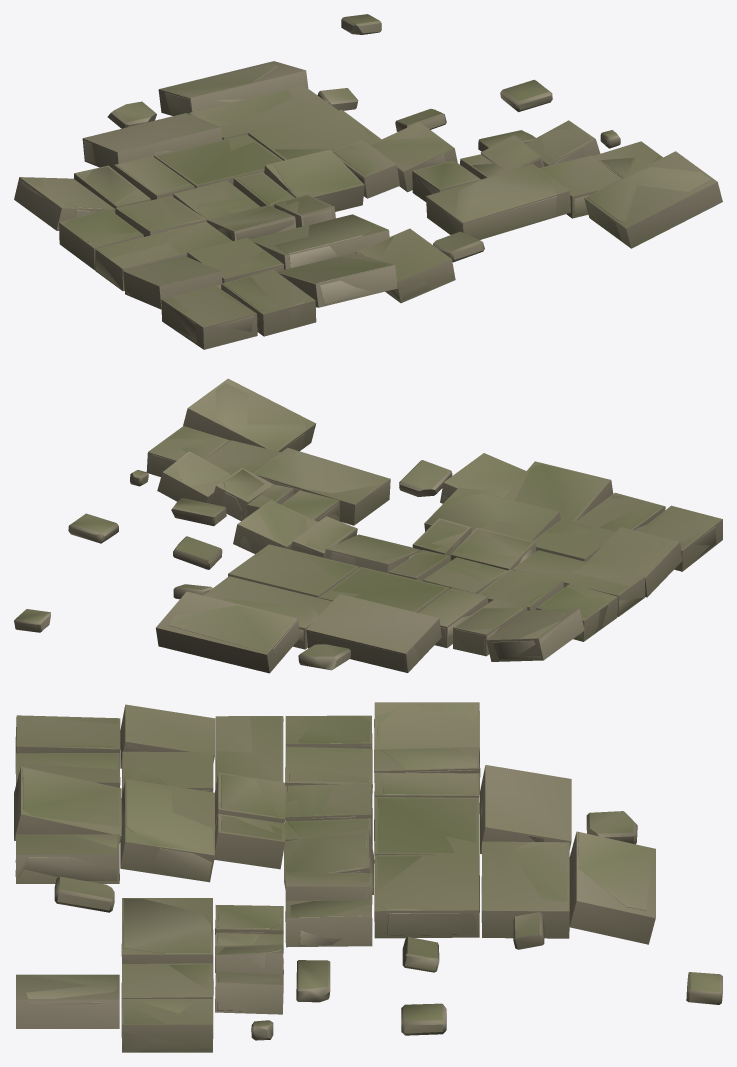
File: agora_paving_broken.glb
3 renders of one model, top to bottom at view 1: azimuth 30°, elevation 25°; view 2: azimuth 150°, elevation 25°; view 3: azimuth 270°, elevation 25°, orthographic. The views are drawn at different scales.
Visible parts, largest first — view 1: agora_paving_broken_far, agora_paving_broken; view 2: agora_paving_broken_far, agora_paving_broken; view 3: agora_paving_broken_far, agora_paving_broken.
Part boxes in pixels (box(x1,y1,x2,y2)): agora_paving_broken_far: box(14, 61, 722, 349); agora_paving_broken: box(19, 14, 710, 343); agora_paving_broken_far: box(146, 378, 722, 673); agora_paving_broken: box(14, 383, 716, 671); agora_paving_broken_far: box(14, 702, 655, 1052); agora_paving_broken: box(14, 704, 722, 1051).
Size of the model in its own units: 18.54 by 1.56 by 17.72.
